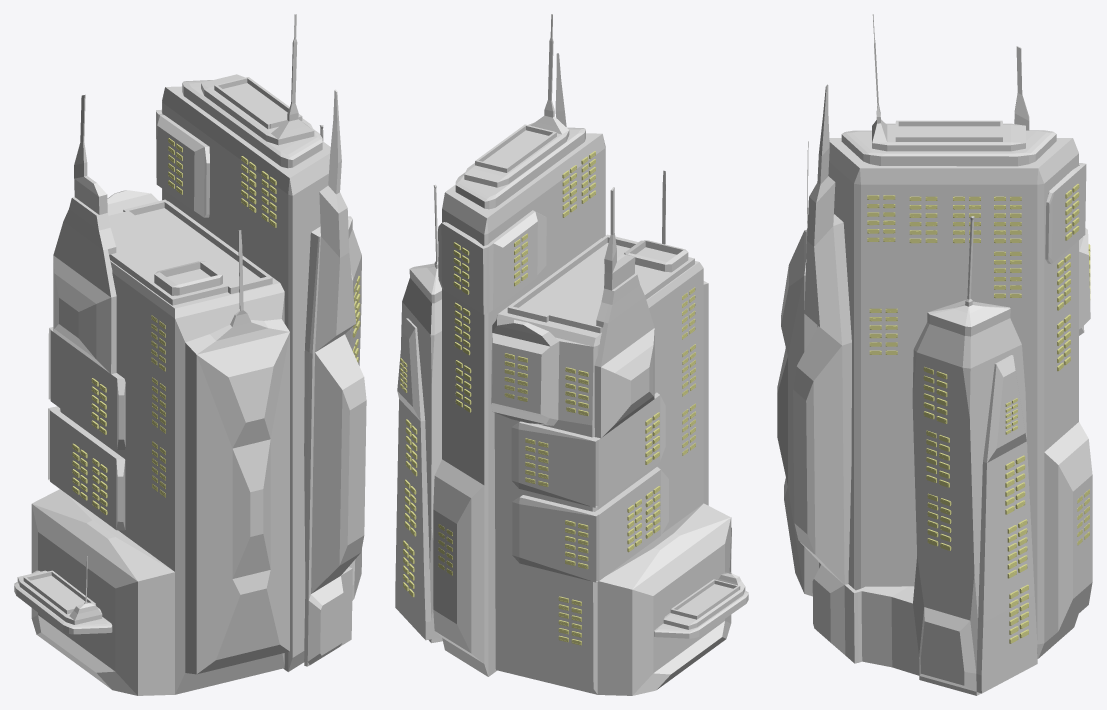
The model's file is Building.fbx.
The picture shows the model from 3 angles, left to right: view 1: azimuth 30°, elevation 25°; view 2: azimuth 150°, elevation 25°; view 3: azimuth 270°, elevation 25°; orthographic projection. The views are drawn at different scales.
Parts seen in each view (by area): view 1: base2, base alt2, base, colonne, Roof_Balcony.001, Mur.001, mur, Roof_base.001, Roof_top.001, Roof_Balcony.002, Roof_Balcony2, Roof_Balcony (+7 smaller); view 2: base2, base, colonne, base alt2, Mur.001, mur, Roof_Balcony.001, Roof_top.001, Roof_base.001, Roof_Balcony.002, Roof_Balcony, Roof_Balcony2 (+7 smaller); view 3: base alt2, base, base2, Roof_base.001, mur, Roof_top.001, Roof_Balcony.002, Light.028, Light.030, Light.023, Light.021, Light.029 (+11 smaller).
Part boxes in pixels (x1,y1,x2,y2): base2: (31,190,289,695); base alt2: (304,89,366,666); base: (162,86,330,671); colonne: (48,94,125,449); Roof_Balcony.001: (108,199,272,305); Mur.001: (48,406,125,530); mur: (156,109,209,217); Roof_base.001: (182,80,322,168); Roof_top.001: (201,14,314,145); Roof_Balcony.002: (214,77,302,129); Roof_Balcony2: (154,261,222,295); Roof_Balcony: (23,570,95,614); base2: (491,170,731,695); base: (433,133,605,676); colonne: (511,187,665,507); base alt2: (395,53,566,643); Mur.001: (512,467,668,582); mur: (438,210,546,314); Roof_Balcony.001: (507,234,694,333); Roof_top.001: (464,14,569,187); Roof_base.001: (455,127,585,209); Roof_Balcony.002: (475,124,556,172); Roof_Balcony: (670,579,740,619); Roof_Balcony2: (624,240,688,272); base alt2: (793,84,1037,695); base: (819,138,1092,658); base2: (777,141,1090,596); Roof_base.001: (841,130,1056,166); mur: (1045,163,1086,264); Roof_top.001: (872,14,1025,151); Roof_Balcony.002: (895,120,1002,141); Light.028: (923,367,947,423); Light.030: (927,493,951,550); Light.023: (869,308,897,354); Light.021: (867,195,895,241); Light.029: (926,430,949,487).
Size of the model in its own units: 1017 by 1838 by 832.
